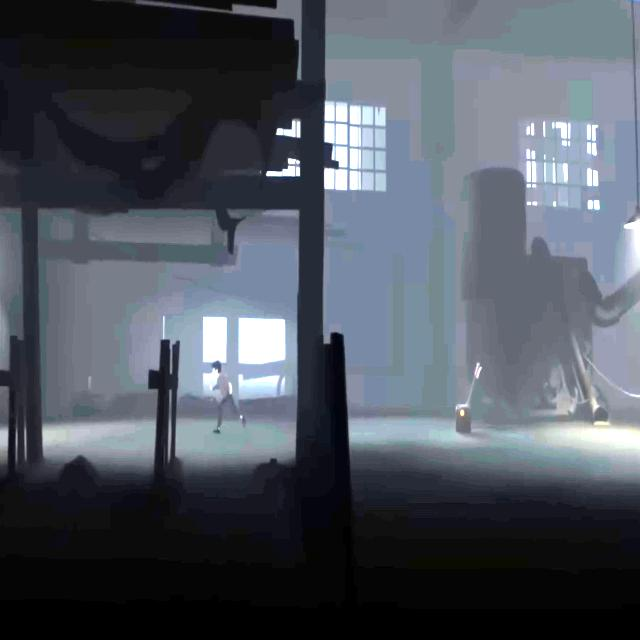boy: (209, 360, 245, 437)
